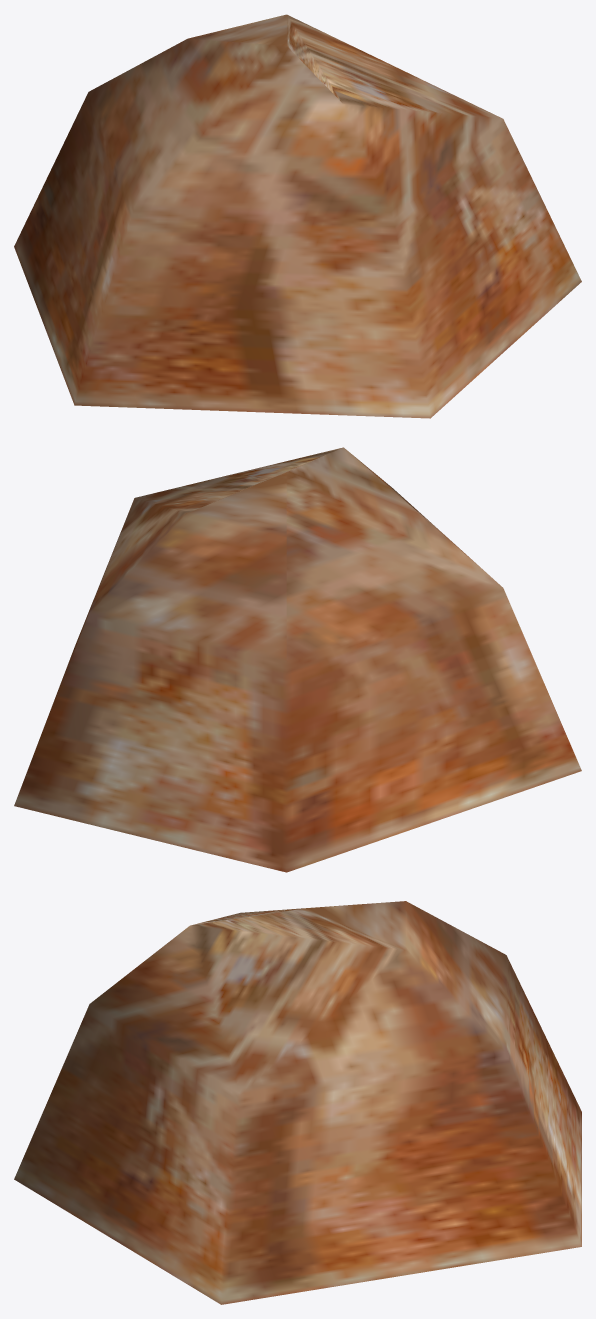
Rendered from edb_food_bread_loaf_full_s1_l1.fbx.
3 renders of one model, top to bottom at view 1: azimuth 30°, elevation 25°; view 2: azimuth 150°, elevation 25°; view 3: azimuth 270°, elevation 25°, orthographic.
Parts seen in each view (by area): view 1: mesh_node; view 2: mesh_node; view 3: mesh_node.
Boxes of the visible parts, bbox=[...] form: mesh_node: bbox=[14, 14, 581, 418]; mesh_node: bbox=[14, 447, 581, 872]; mesh_node: bbox=[14, 901, 581, 1304].
Size of the model in its own units: 0.2739 by 0.1379 by 0.2619.
1 material, 1 textured.
